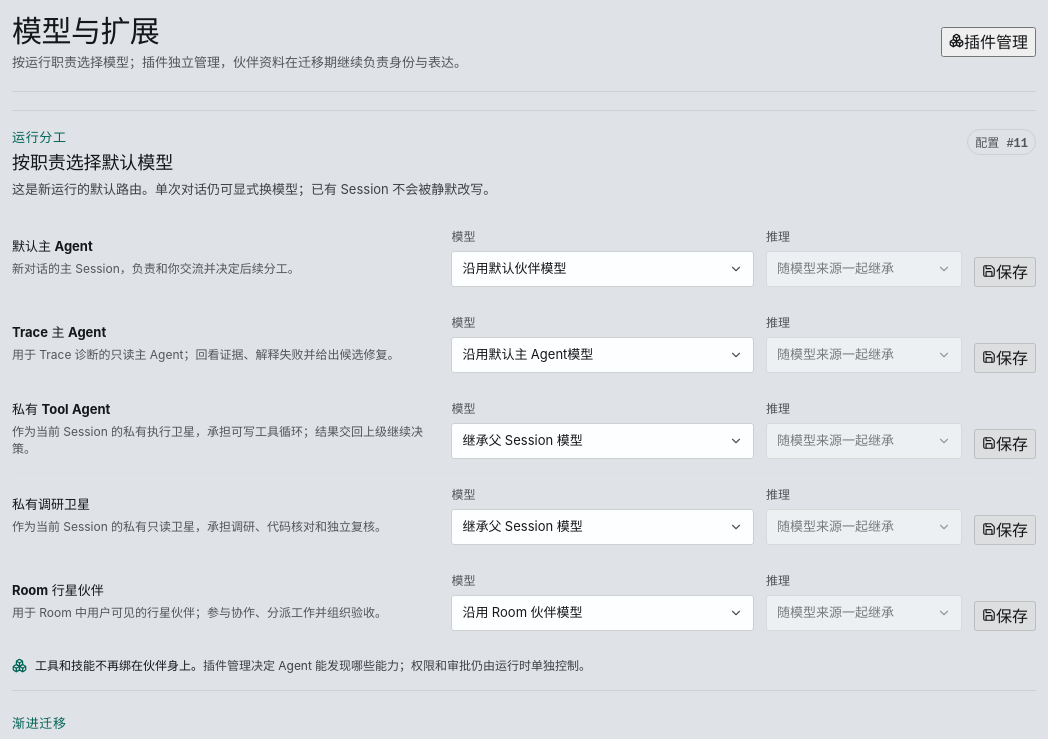
Test: Roles experience › saves a Tool Agent model route without changing the companion default
Expected: the text "配置 #11" is shown, 967,128 -> 1036,154
Click the dropdown named "私有 Tool Agent默认模型": coordinates (523, 440) 451,422 -> 754,458
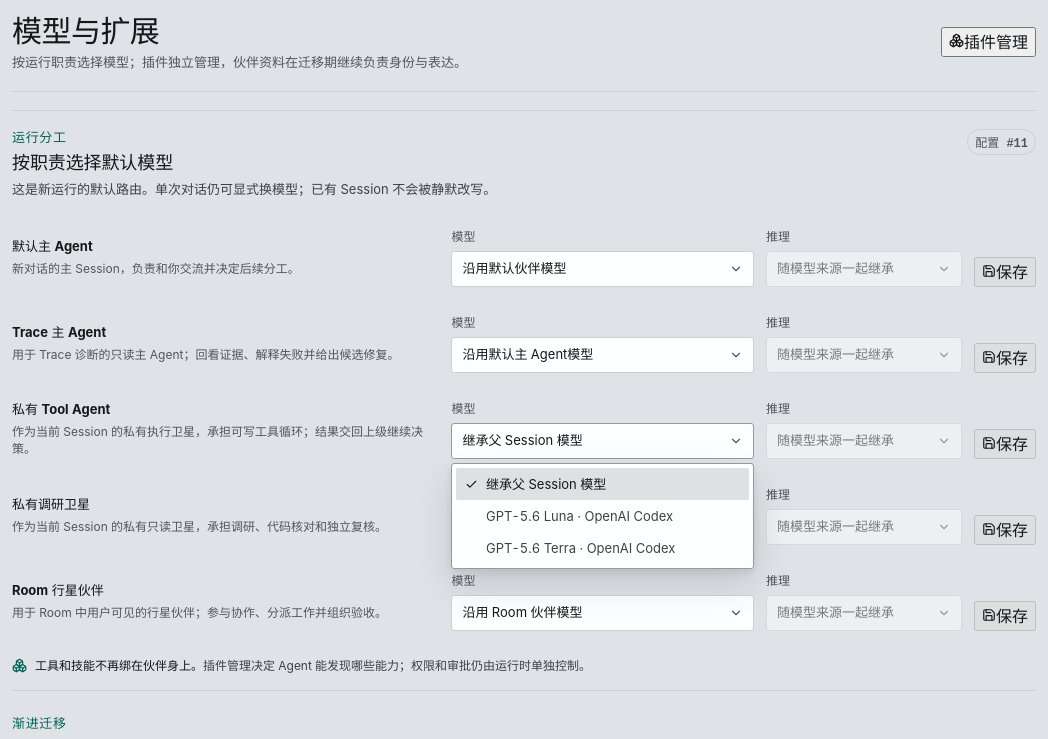
Click the option "GPT-5.6 Terra · OpenAI Codex": coordinates (581, 548) 486,540 -> 675,556
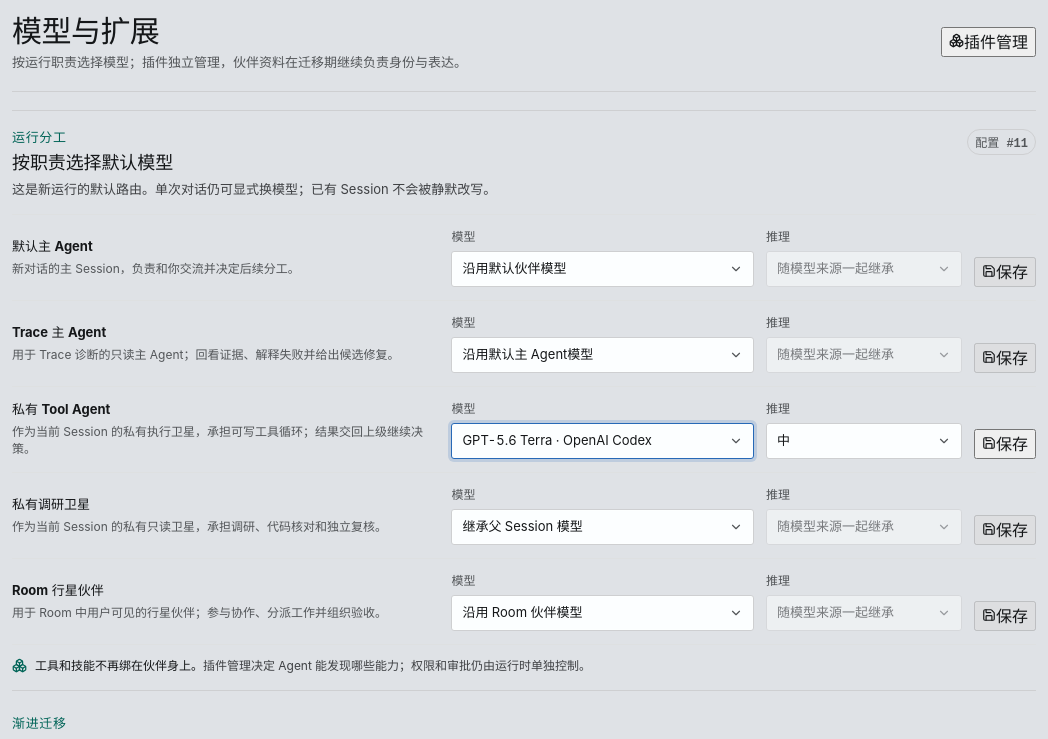
Click the dropdown named "私有 Tool Agent默认推理强度": coordinates (864, 440) 766,422 -> 962,458
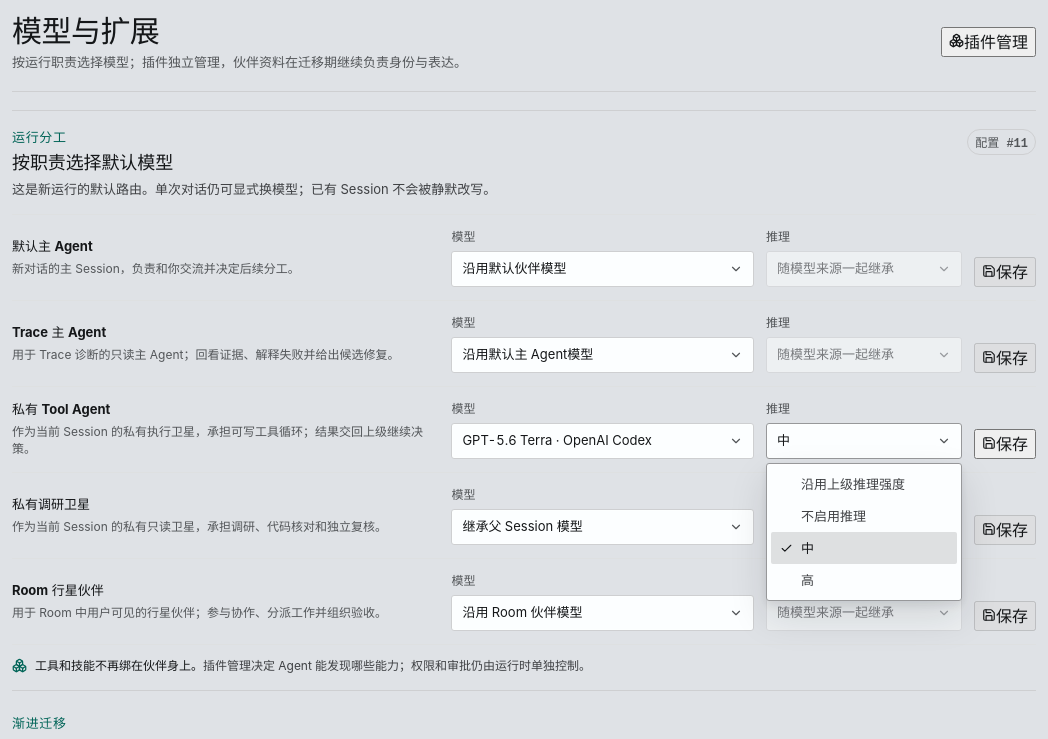
Click the option "高": coordinates (808, 580) 801,572 -> 814,588
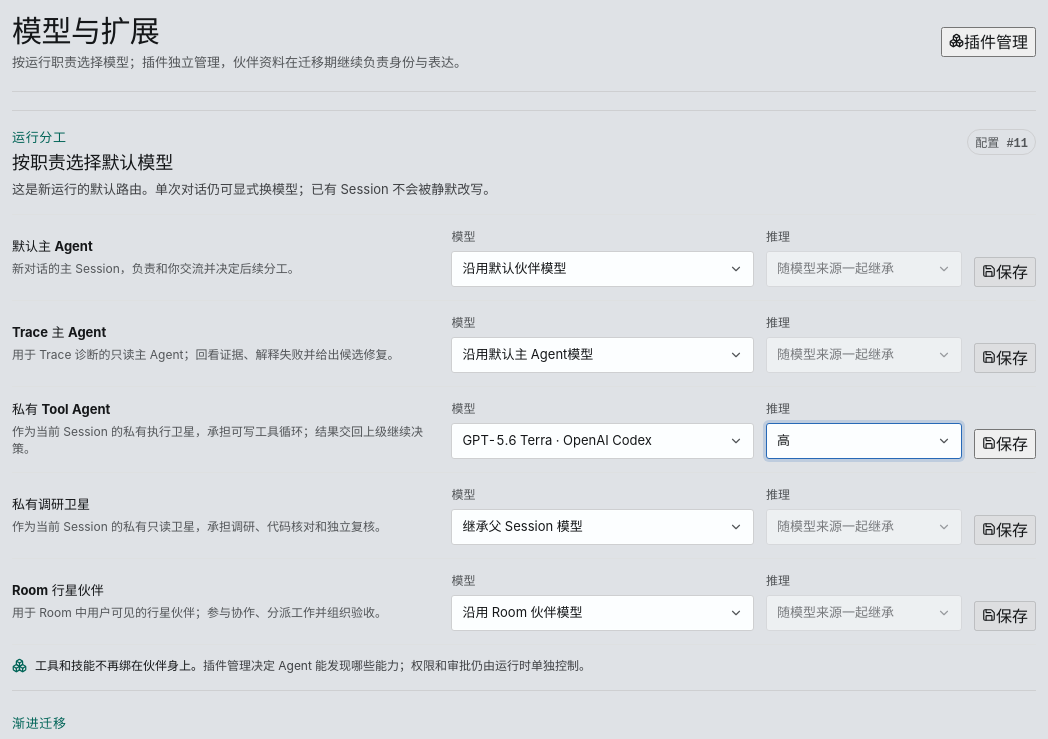
Click the button with aria-label "保存私有 Tool Agent模型分工": coordinates (1005, 444) 974,428 -> 1036,458
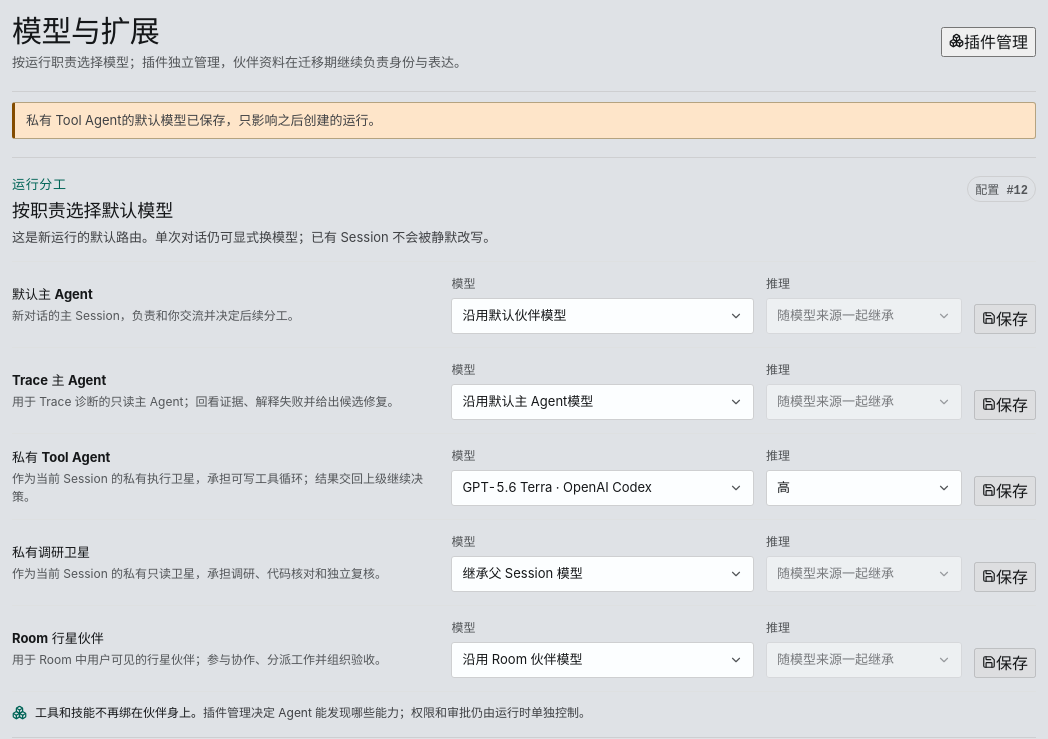
Expected: the text "配置 #12" is shown, 967,176 -> 1036,202
Expected: the message shows "私有 Tool Agent的默认模型已保存", 26,112 -> 382,128
